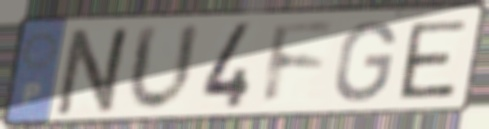4: (197, 19, 254, 113)
E: (397, 17, 471, 102)
F: (261, 20, 338, 110)
G: (332, 18, 400, 105)
N: (51, 23, 138, 119)
U: (124, 20, 204, 116)
